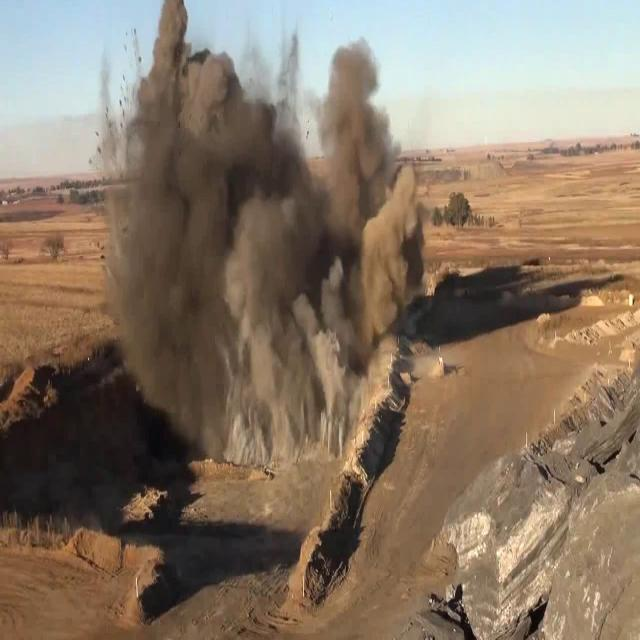explosion: (78, 0, 441, 514)
